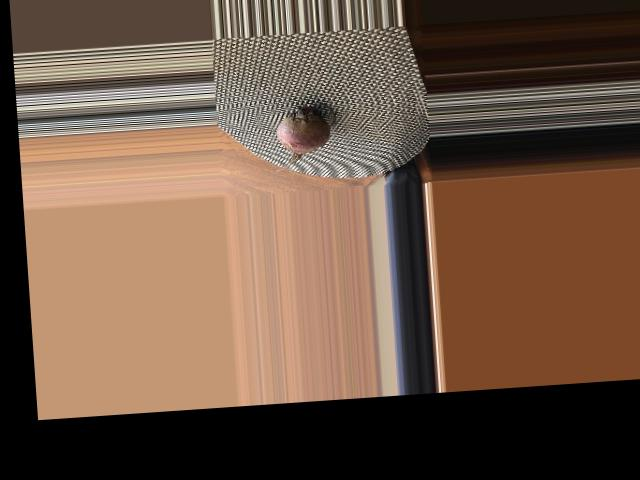beet: (266, 101, 340, 171)
